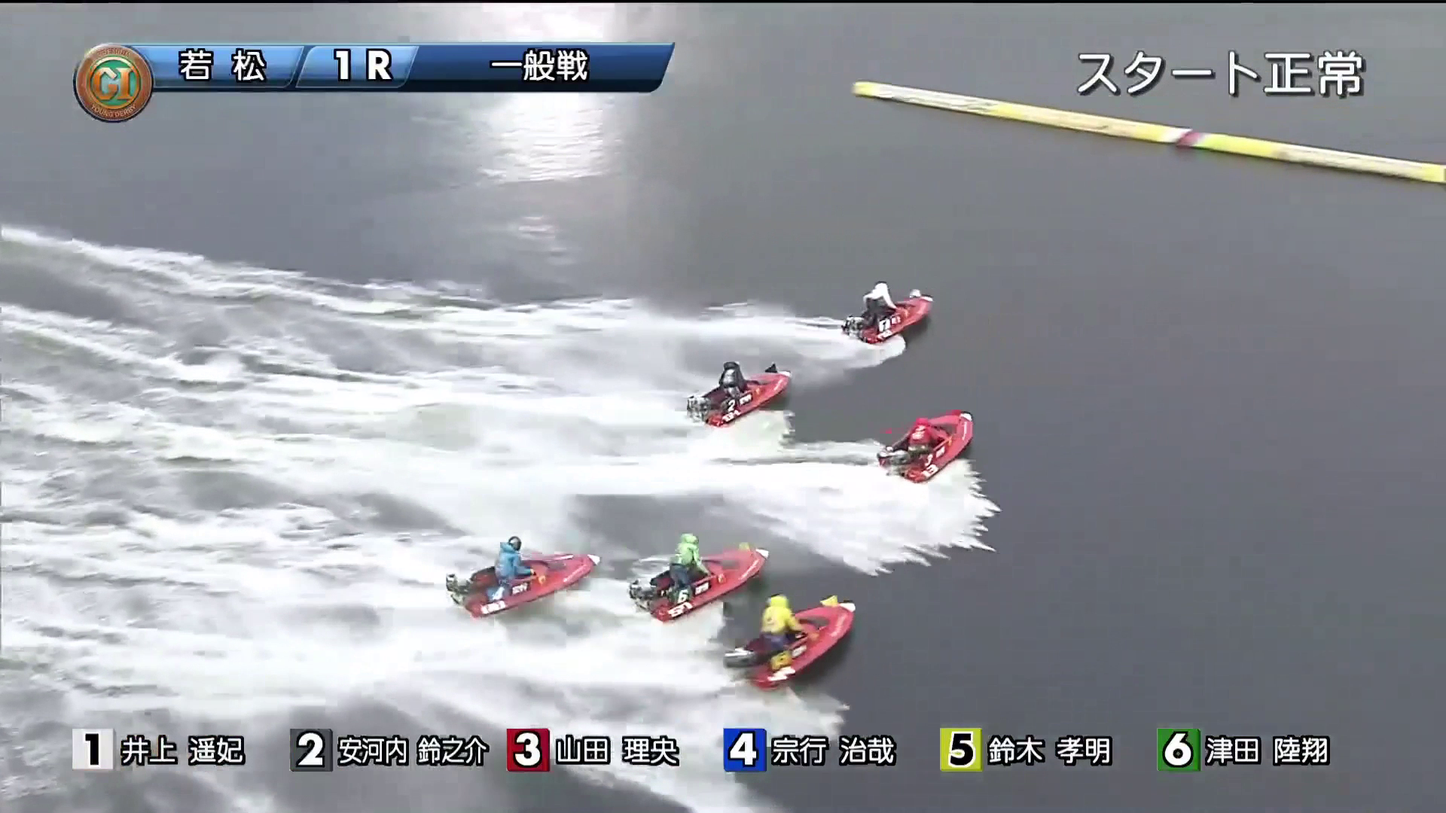１号艇: (846, 282, 984, 335)
２号艇: (675, 354, 803, 414)
３号艇: (878, 420, 1018, 466)
４号艇: (631, 535, 760, 600)
５号艇: (435, 546, 559, 601)
６号艇: (743, 602, 843, 659)
